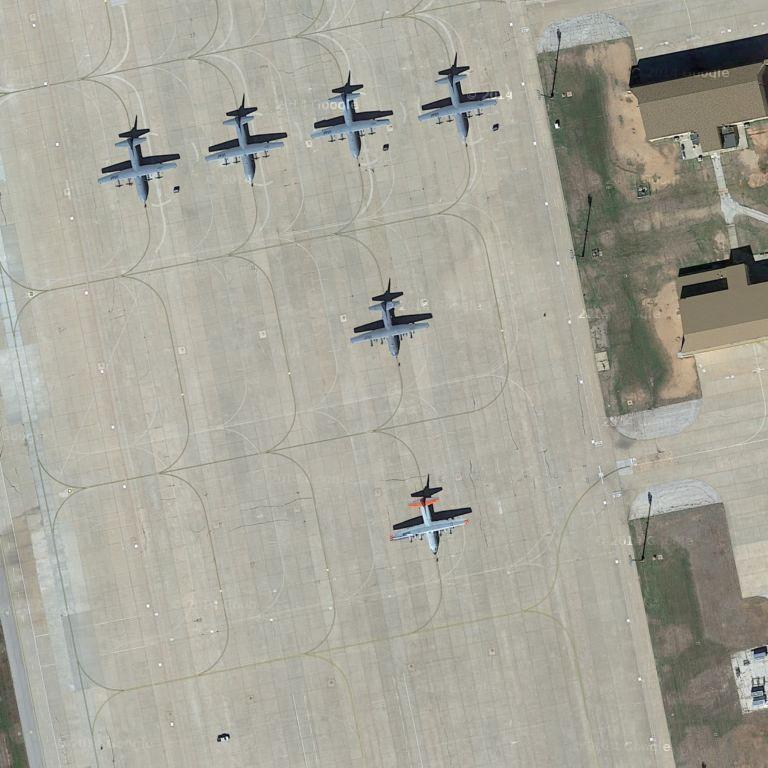C-130: (305, 86, 396, 158), (204, 112, 290, 185), (385, 486, 472, 558), (95, 133, 179, 205), (420, 71, 502, 144), (343, 296, 435, 359)
